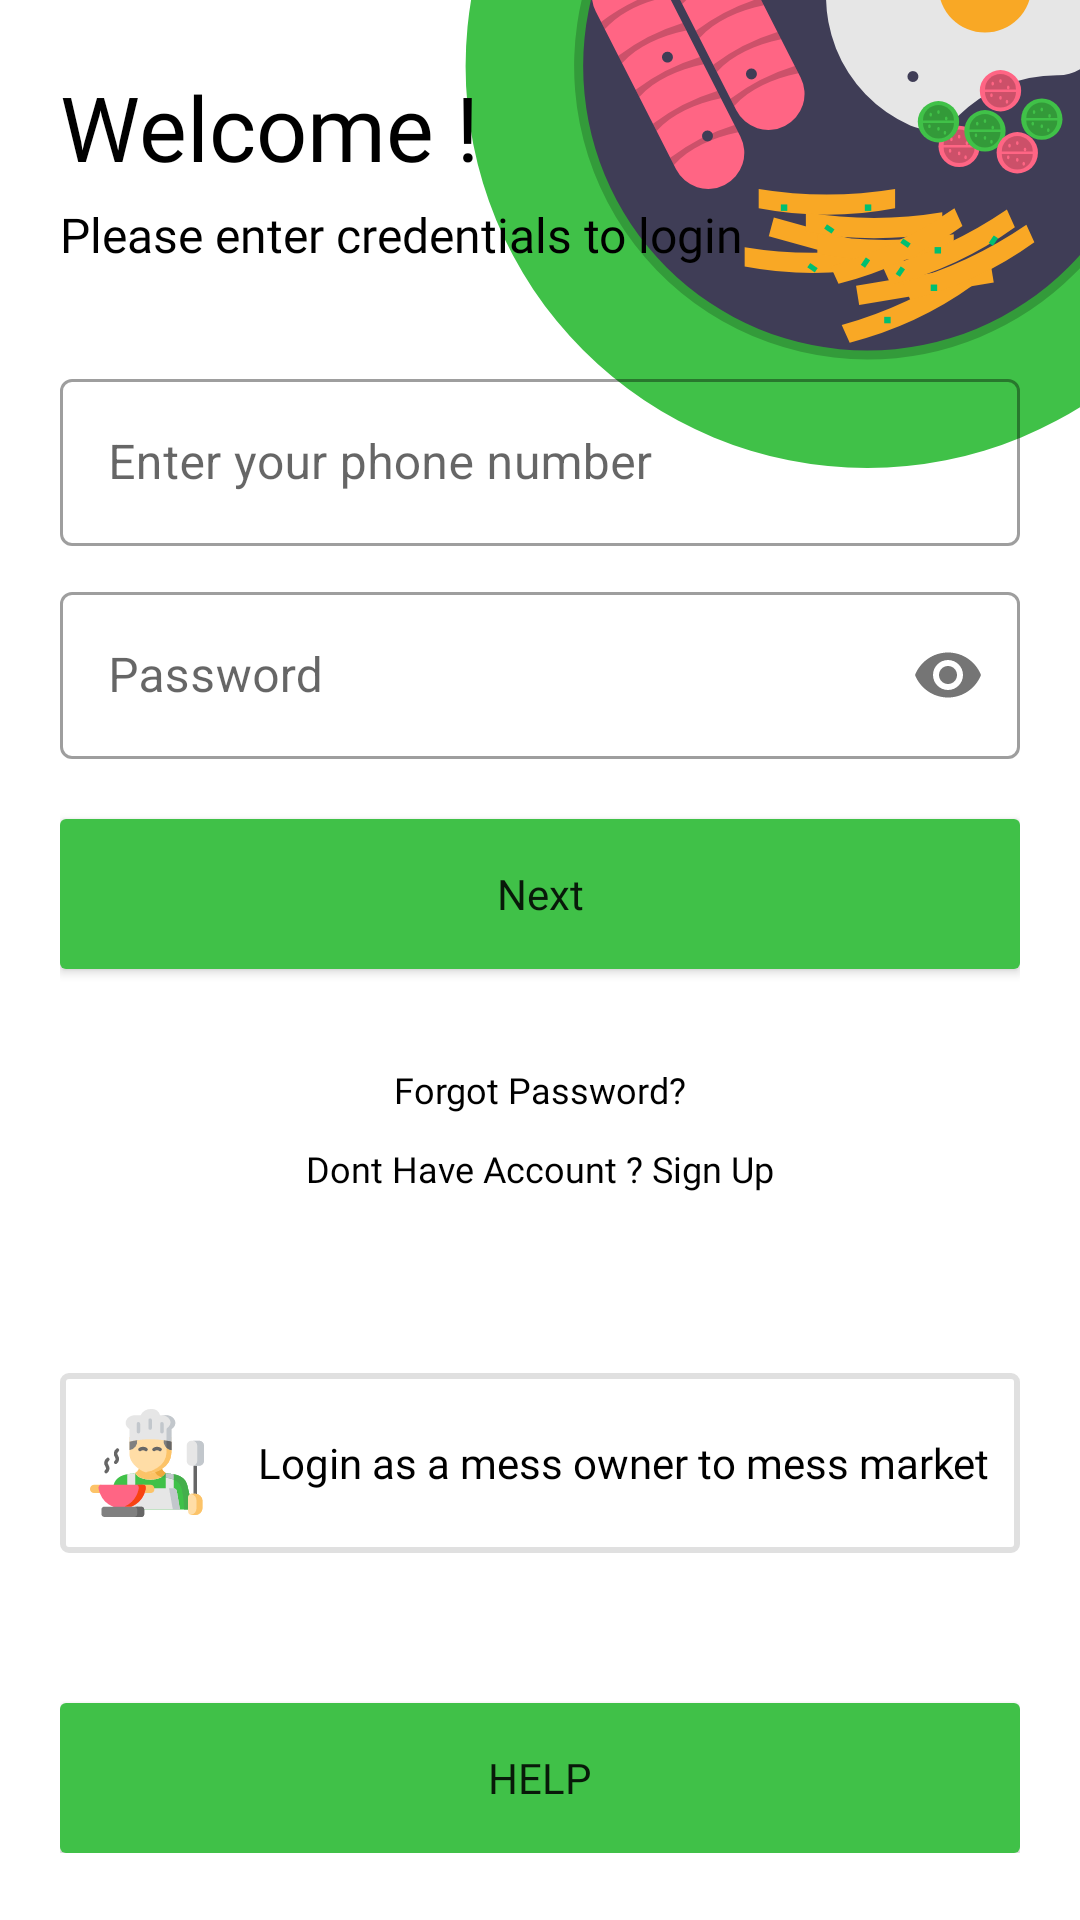

Icons on this 1080 × 1920 Android screen, each with the point to tap as (x=x, y=y):
cooking: (x=147, y=1463)
